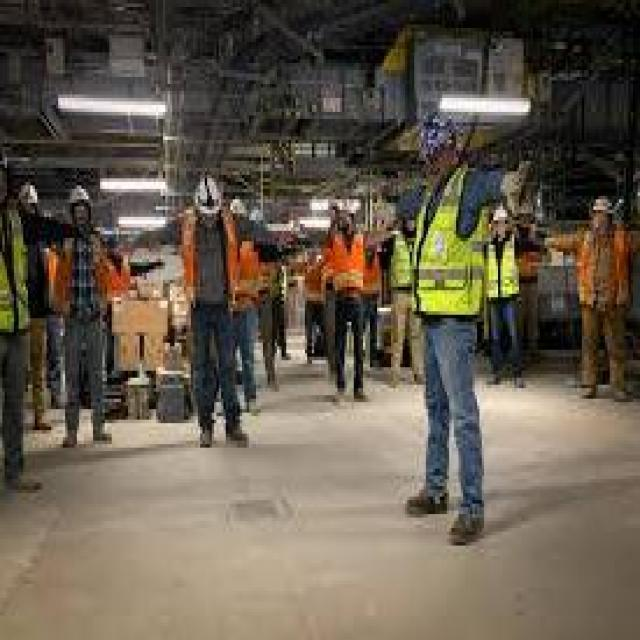reflective_jacket: (406, 160, 491, 322), (0, 206, 35, 339), (323, 230, 374, 304), (481, 234, 523, 307)
safety_helmet: (409, 108, 465, 164), (62, 178, 95, 213), (16, 174, 44, 213), (588, 188, 614, 220), (488, 199, 514, 230)
